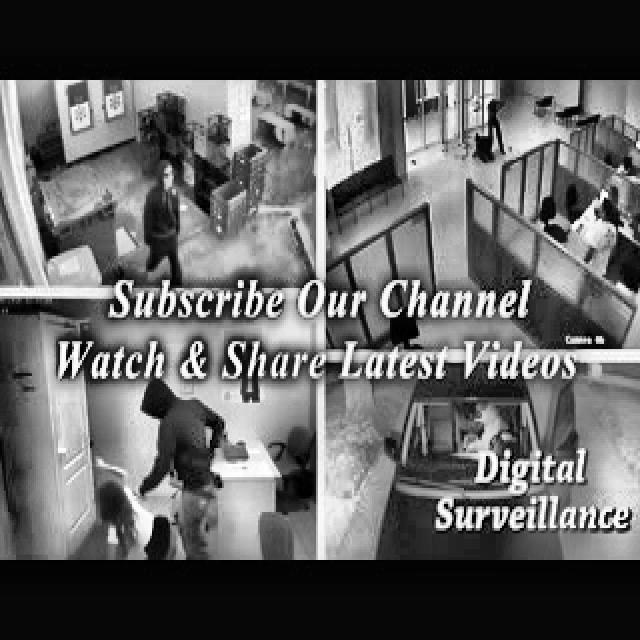burglary: (137, 148, 190, 286)
